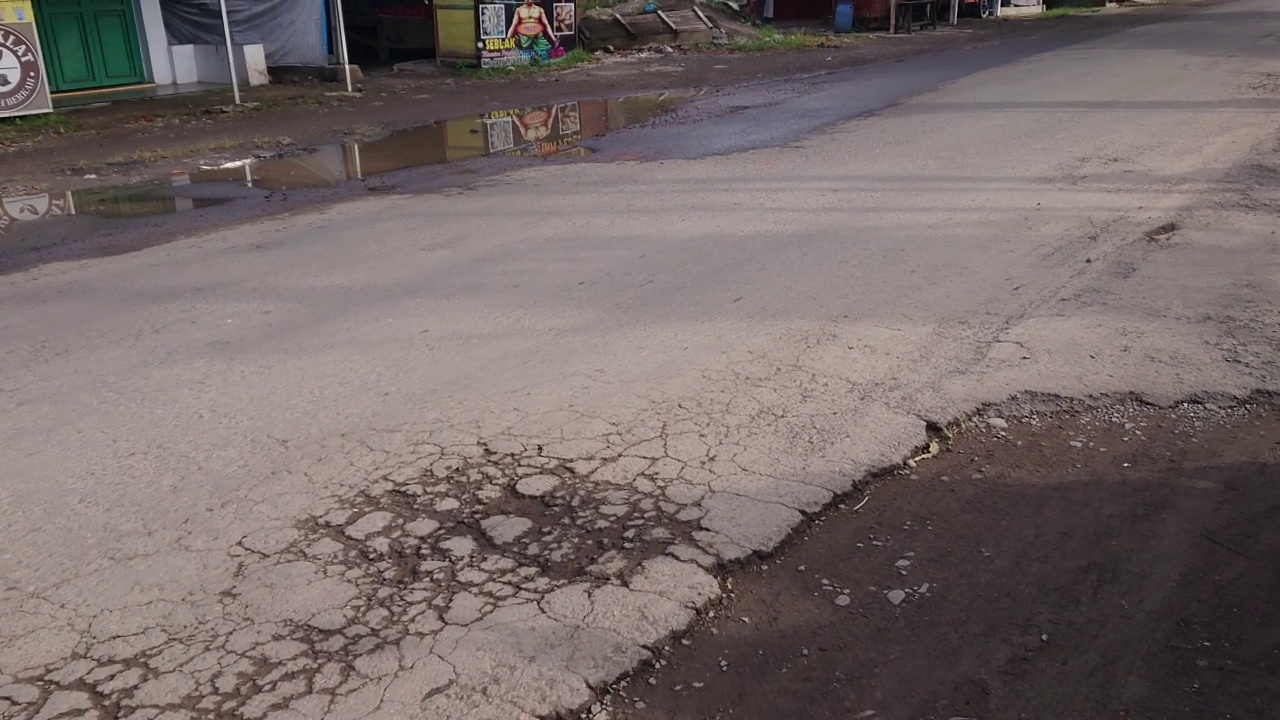Retak: (325, 403, 703, 607)
